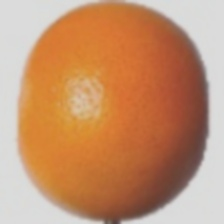grapes: (33, 43, 224, 216)
